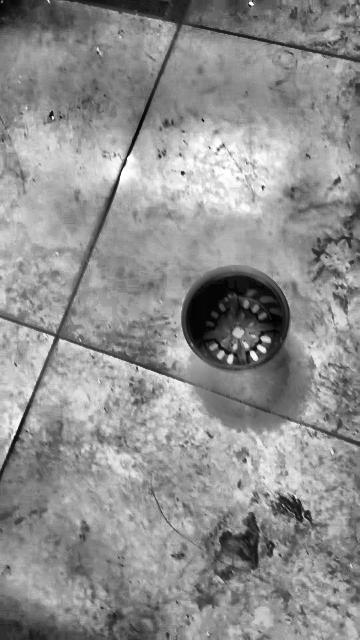pot: (182, 267, 290, 372)
